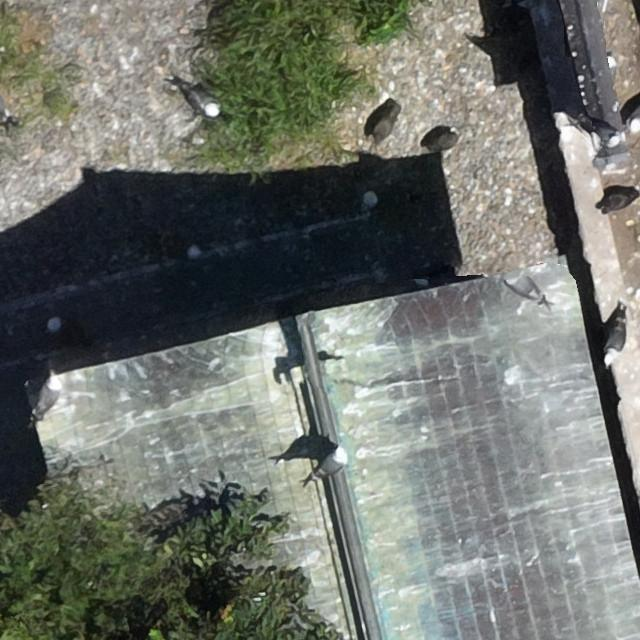umineko: (32, 316, 63, 358), (604, 308, 626, 364), (586, 114, 621, 146), (358, 187, 414, 206), (318, 450, 346, 477), (191, 89, 219, 115), (164, 240, 202, 259), (509, 280, 535, 299)
